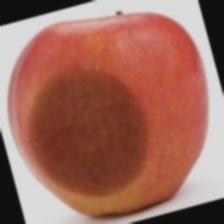apple: (46, 1, 199, 179)
